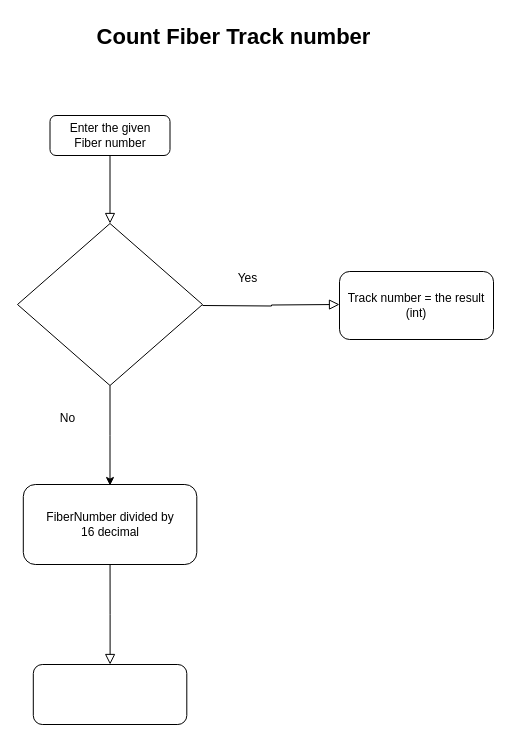
Image size: 511x742. Some labels were removed from this diagram. Here are the shapes that lost their labels. From the top down, the centre of each, then its label:
the point at 109,304: Is FiberNumber divided by 16 integer?
the point at 109,694: Track number = result + 1
